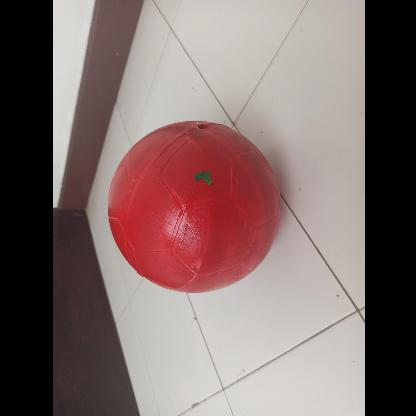red_ball: (103, 122, 278, 296)
